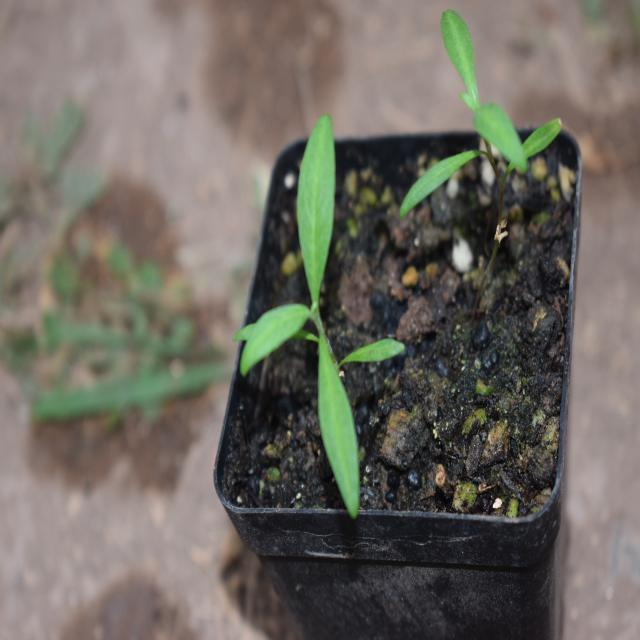white_smart_weed: (233, 103, 413, 507)
